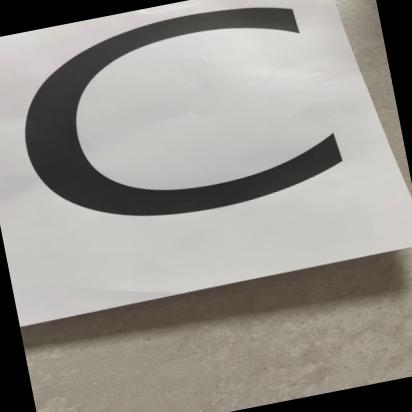seat: (0, 0, 412, 332)
